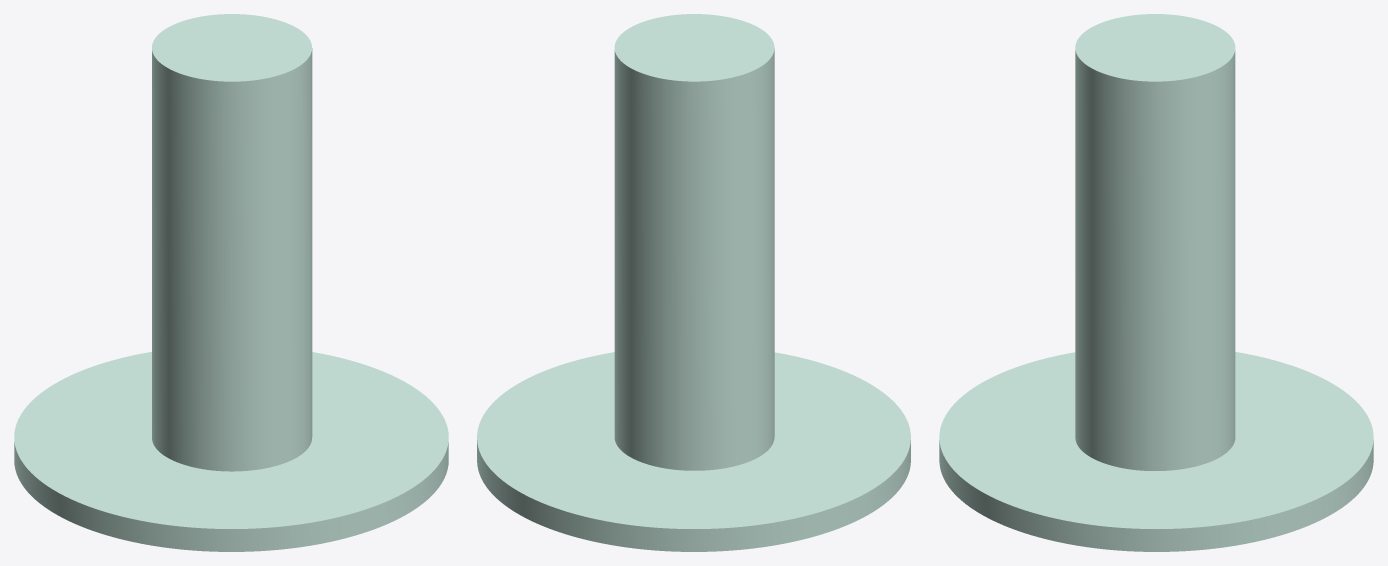
3 renders of one model, left to right at view 1: azimuth 30°, elevation 25°; view 2: azimuth 150°, elevation 25°; view 3: azimuth 270°, elevation 25°, orthographic.
Visible parts, largest first — view 1: Renderer Node; view 2: Renderer Node; view 3: Renderer Node.
Part boxes in pixels (<box>): Renderer Node: <box>14,14,448,551</box>; Renderer Node: <box>477,14,910,551</box>; Renderer Node: <box>939,14,1373,551</box>.
Size of the model in its own units: 0.6708 by 0.7031 by 0.6711.
